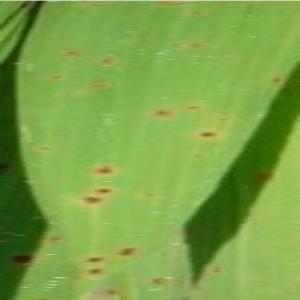Brown_Spot: (145, 104, 179, 123), (90, 159, 120, 180), (192, 126, 225, 144), (250, 165, 278, 185), (114, 241, 142, 260), (9, 250, 38, 268), (146, 272, 170, 291), (76, 193, 106, 208), (81, 265, 111, 280), (43, 230, 66, 245), (84, 252, 108, 266), (182, 38, 206, 52), (207, 221, 226, 237), (267, 72, 285, 88), (1, 157, 14, 179), (61, 45, 81, 59), (92, 185, 115, 197), (45, 70, 67, 82), (36, 142, 55, 154), (139, 187, 158, 199), (187, 6, 204, 19), (103, 286, 121, 297), (97, 55, 114, 66), (210, 264, 225, 276), (179, 236, 194, 248), (185, 101, 201, 112), (179, 294, 193, 300)
